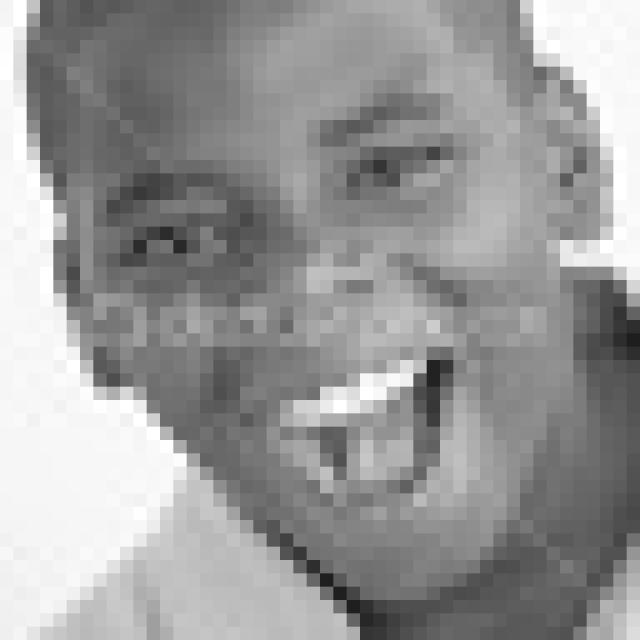happy: (105, 83, 475, 538)
